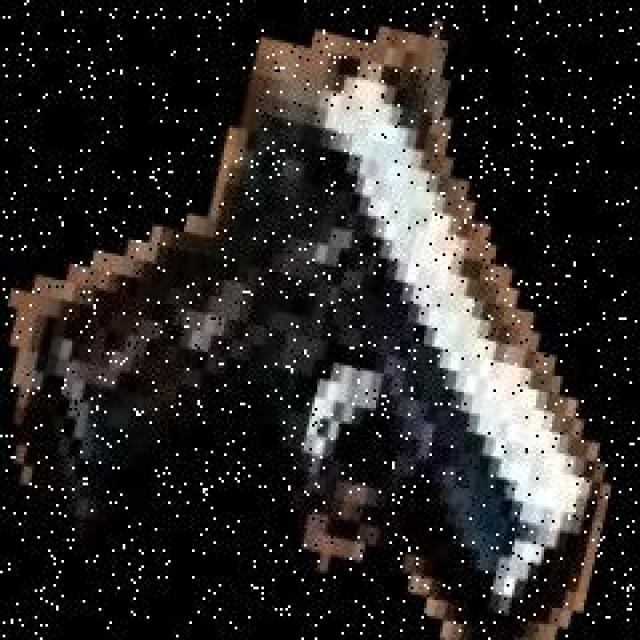handgun: (8, 19, 612, 640)
